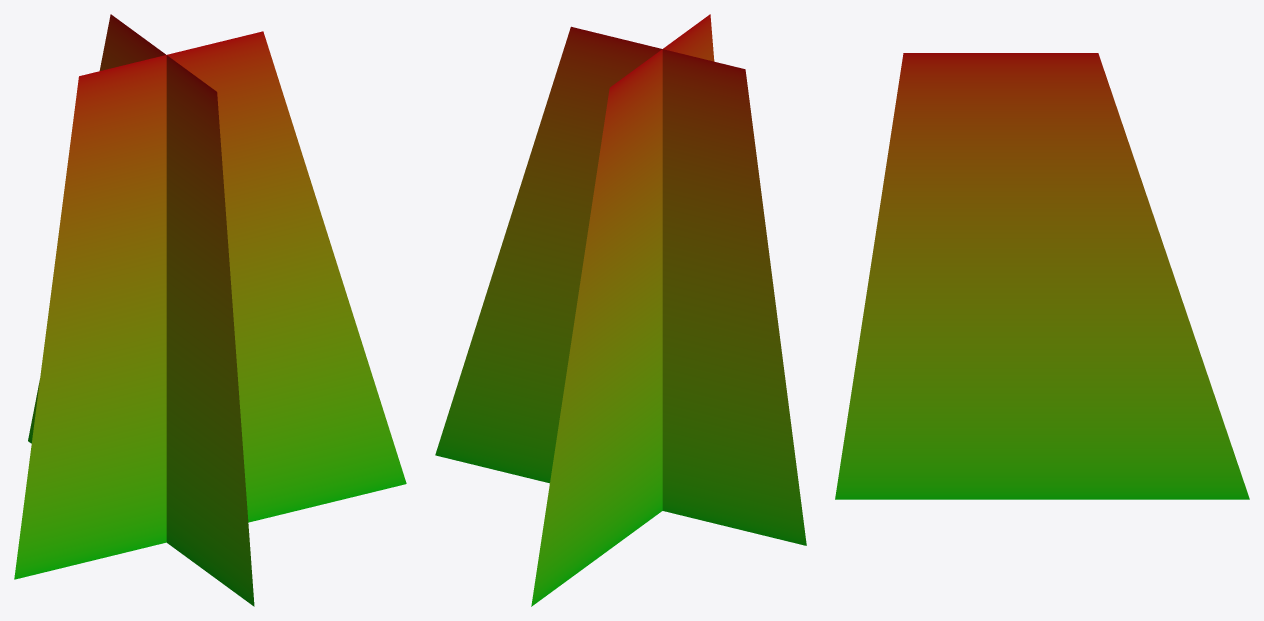
File: Dead Shrubs_LOD4_Var8_vdknafgha.fbx
3 renders of one model, left to right at view 1: azimuth 30°, elevation 25°; view 2: azimuth 150°, elevation 25°; view 3: azimuth 270°, elevation 25°, orthographic. The views are drawn at different scales.
Visible parts, largest first — view 1: _8l0q_Var8_LOD4; view 2: _8l0q_Var8_LOD4; view 3: _8l0q_Var8_LOD4.
Boxes of the visible parts, x1,y1,x2,y2 form: _8l0q_Var8_LOD4: (14,14,406,606); _8l0q_Var8_LOD4: (435,14,806,606); _8l0q_Var8_LOD4: (835,53,1249,499).
Size of the model in its own units: 29.04 by 34.48 by 29.04.
